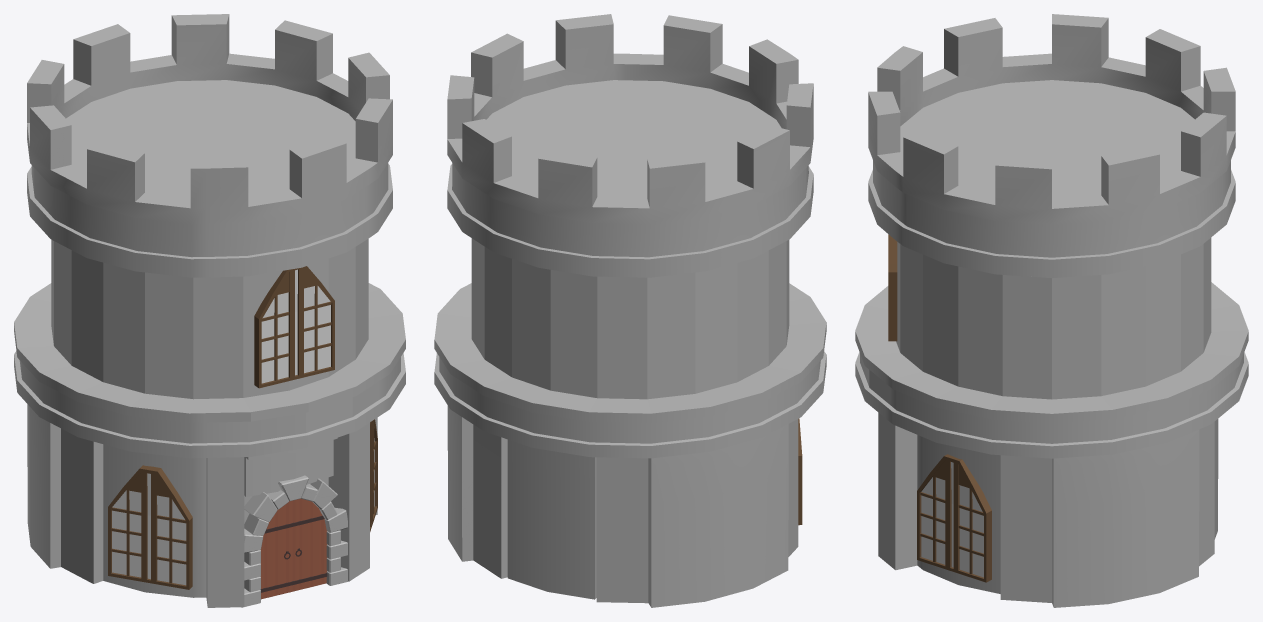
File: library-final.fbx
3 views of the same model, side by side, from view 1: azimuth 30°, elevation 25°; view 2: azimuth 150°, elevation 25°; view 3: azimuth 270°, elevation 25° (orthographic).
Parts seen in each view (by area): view 1: polySurface1, MainFrame, pPlane1.001, pPlane1, Cube.001, Cube, MainDoor.001, MainDoor, pPlane1.002; view 2: polySurface1; view 3: polySurface1, pPlane1.002, Cube.002, pPlane1.
Boxes of the visible parts, <box> form: polySurface1: <box>14,14,405,607</box>; MainFrame: <box>241,475,348,607</box>; pPlane1.001: <box>108,465,192,589</box>; pPlane1: <box>254,266,334,388</box>; Cube.001: <box>112,473,186,585</box>; Cube: <box>261,269,330,383</box>; MainDoor.001: <box>292,498,327,591</box>; MainDoor: <box>260,500,293,599</box>; pPlane1.002: <box>370,419,377,531</box>; polySurface1: <box>434,14,826,607</box>; polySurface1: <box>855,14,1248,607</box>; pPlane1.002: <box>917,454,991,582</box>; Cube.002: <box>921,462,983,577</box>; pPlane1: <box>888,234,897,341</box>.
Bounding box in the file's own units: 51.34 × 63.33 × 51.34.
